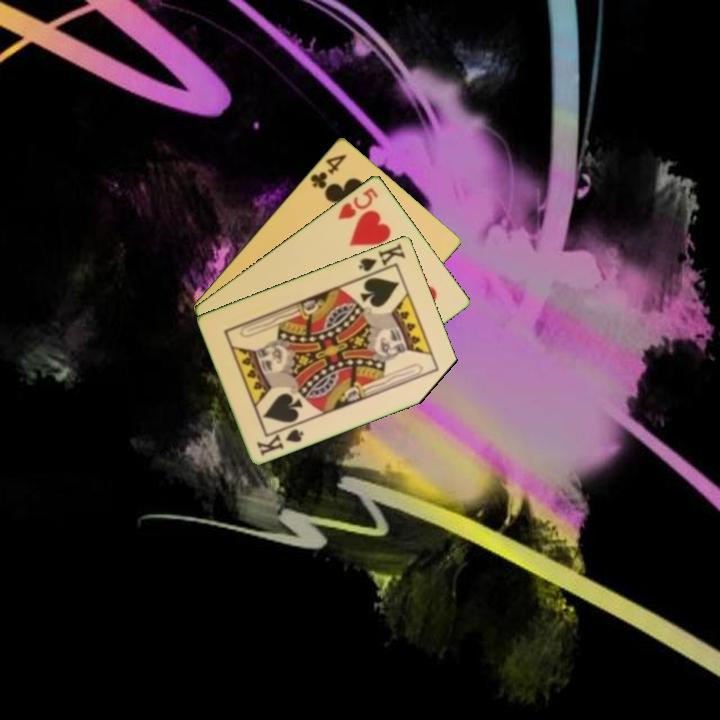4c: (307, 150, 350, 191)
5h: (334, 183, 381, 222)
Ks: (355, 239, 409, 280), (253, 425, 307, 458)
